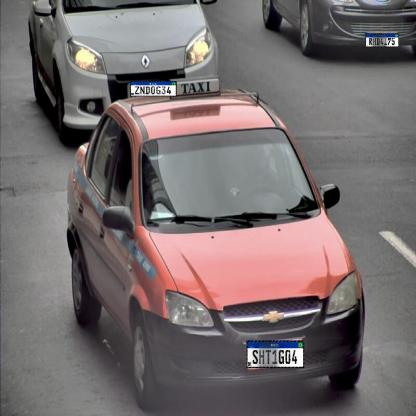PlacaM: (247, 341, 304, 368), (130, 81, 177, 96), (365, 33, 399, 47)
